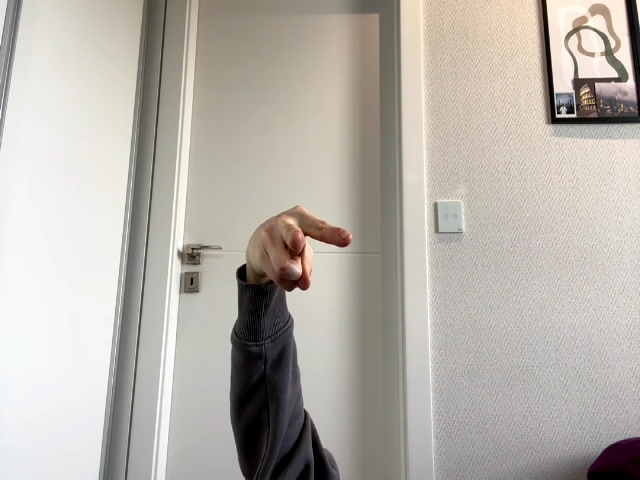U: (247, 205, 351, 291)
